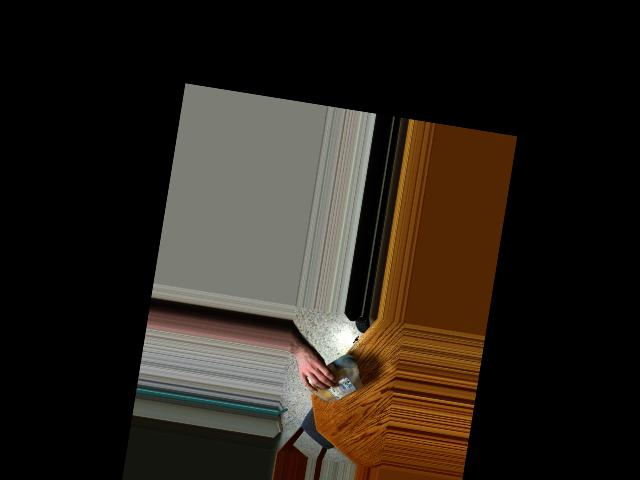cheese: (299, 348, 369, 409)
